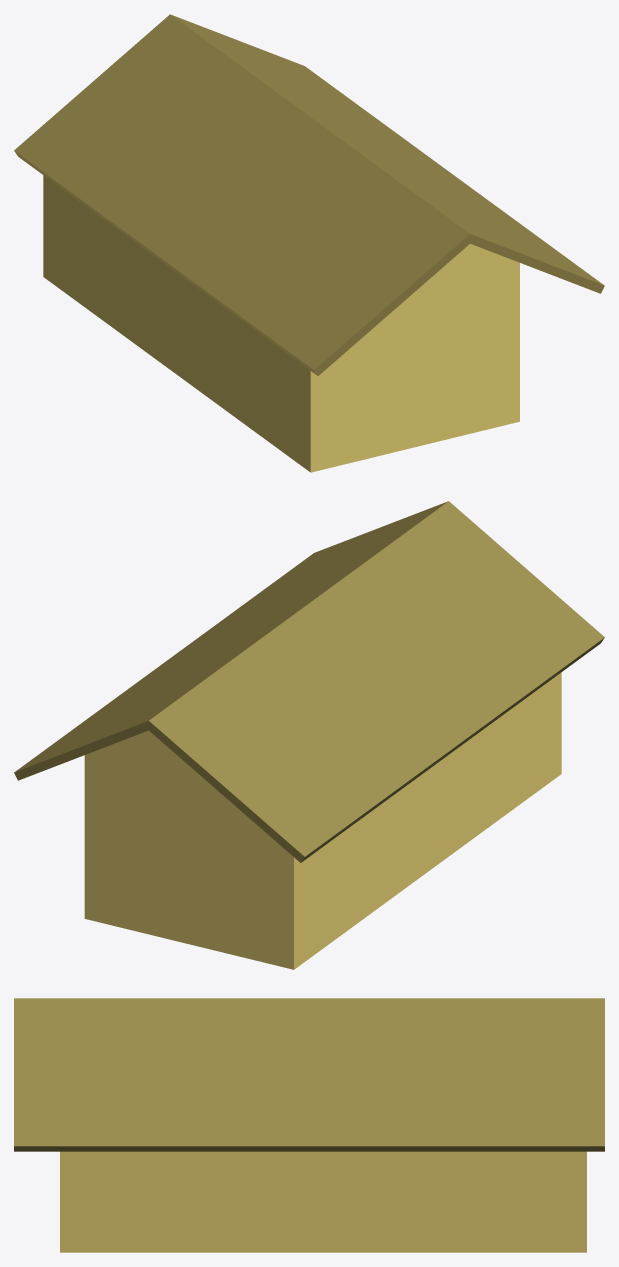
File: result.glb
3 views of the same model, one above another, from view 1: azimuth 30°, elevation 25°; view 2: azimuth 150°, elevation 25°; view 3: azimuth 270°, elevation 25° (orthographic).
Visible parts, largest first — view 1: be80853e-16dd-4b2e-b2d9-a57003349fcf__undefined (×2), e27bad43-0768-45e1-aab7-2856f8a10d7a__undefined; view 2: be80853e-16dd-4b2e-b2d9-a57003349fcf__undefined (×2), e27bad43-0768-45e1-aab7-2856f8a10d7a__undefined; view 3: be80853e-16dd-4b2e-b2d9-a57003349fcf__undefined, e27bad43-0768-45e1-aab7-2856f8a10d7a__undefined.
Part boxes in pixels (left/top/right/bottom): be80853e-16dd-4b2e-b2d9-a57003349fcf__undefined (×2): left=14, top=14, right=604, bottom=375; e27bad43-0768-45e1-aab7-2856f8a10d7a__undefined: left=43, top=175, right=519, bottom=472; be80853e-16dd-4b2e-b2d9-a57003349fcf__undefined (×2): left=14, top=501, right=604, bottom=862; e27bad43-0768-45e1-aab7-2856f8a10d7a__undefined: left=84, top=672, right=561, bottom=969; be80853e-16dd-4b2e-b2d9-a57003349fcf__undefined: left=14, top=998, right=604, bottom=1151; e27bad43-0768-45e1-aab7-2856f8a10d7a__undefined: left=60, top=1151, right=586, bottom=1252.
Size of the model in its own units: 912 by 667 by 1629.
